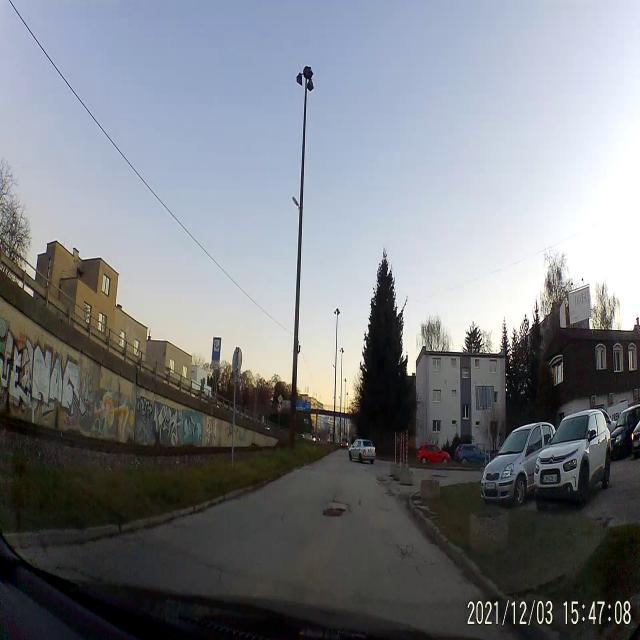Pothole: (322, 498, 349, 521), (375, 475, 388, 487), (384, 490, 397, 500)
